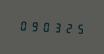five: (73, 21, 83, 35)
nine: (28, 18, 38, 33)
three: (51, 19, 61, 34)
two: (62, 20, 72, 35)
zero: (17, 18, 27, 32), (40, 19, 50, 33)
